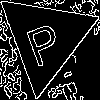P: (20, 14, 65, 68)
